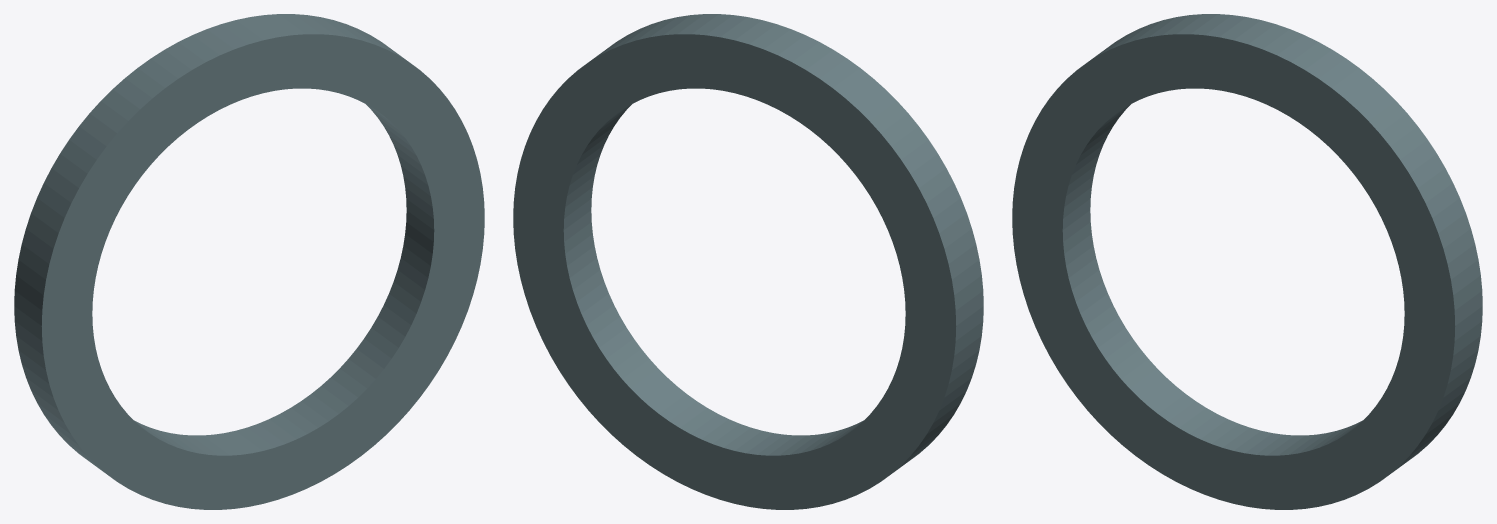
Rendered from yaw_bearing.glb.
3 renders of one model, left to right at view 1: azimuth 30°, elevation 25°; view 2: azimuth 150°, elevation 25°; view 3: azimuth 330°, elevation 25°, orthographic.
Visible parts, largest first — view 1: yaw_ring; view 2: yaw_ring; view 3: yaw_ring.
Boxes of the visible parts, <box> form: yaw_ring: <box>14,14,484,509</box>; yaw_ring: <box>513,14,983,509</box>; yaw_ring: <box>1012,14,1482,509</box>.
Bounding box in the file's own units: 3.24 × 3.24 × 0.35.
